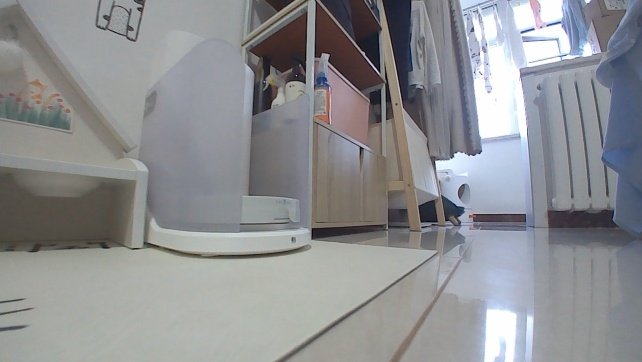blanket: (0, 233, 439, 361)
